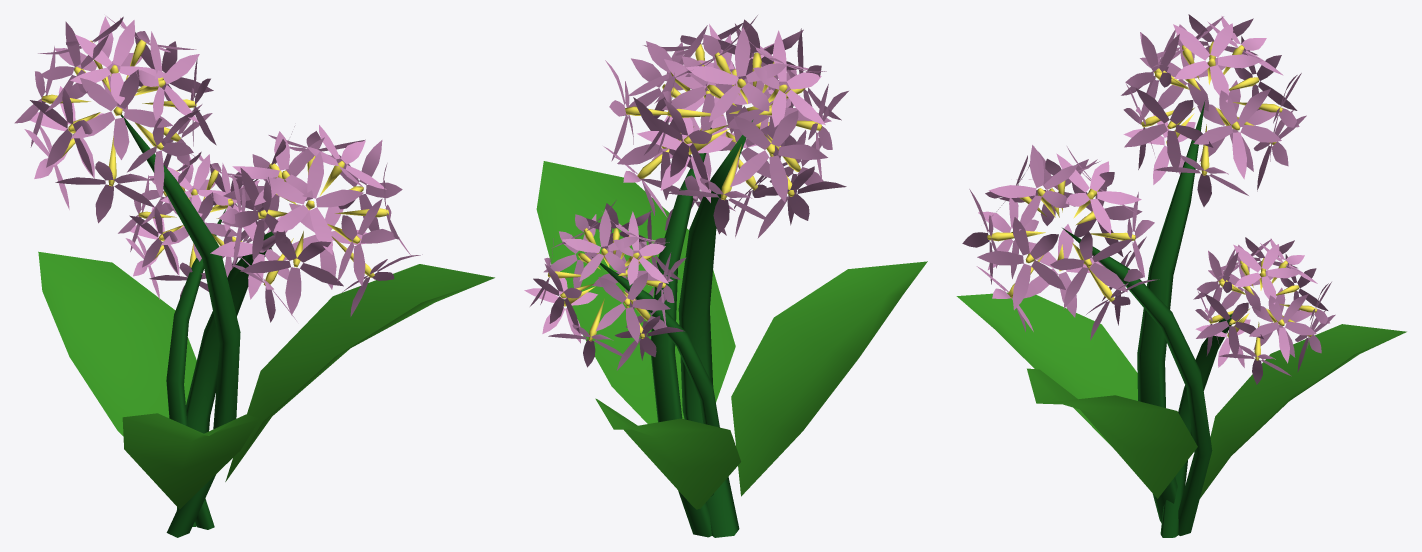
The model's file is fleur 4.fbx.
3 views of the same model, side by side, from view 1: azimuth 30°, elevation 25°; view 2: azimuth 150°, elevation 25°; view 3: azimuth 270°, elevation 25° (orthographic). The views are drawn at different scales.
Parts seen in each view (by area): view 1: Flower.030; view 2: Flower.030; view 3: Flower.030.
Boxes of the visible parts, x1,y1,x2,y2 form: Flower.030: (14,16,494,537); Flower.030: (524,15,927,537); Flower.030: (956,14,1406,537).
Bounding box in the file's own units: 0.3972 × 0.5118 × 0.431.
